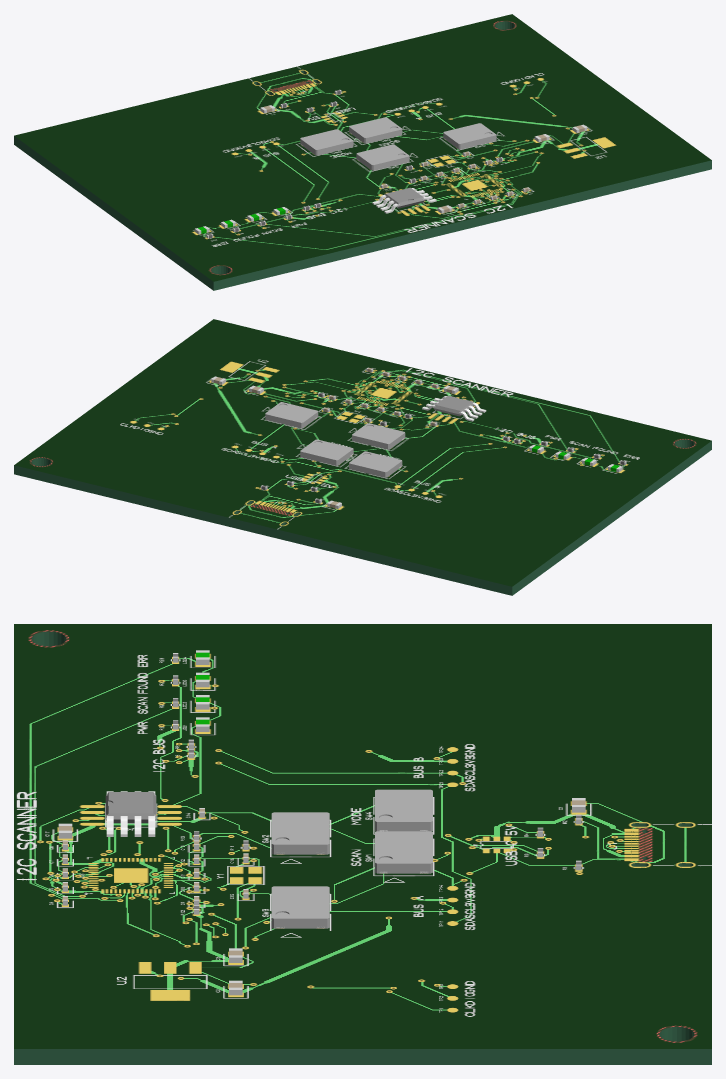
The picture shows the model from 3 angles, top to bottom: view 1: azimuth 30°, elevation 25°; view 2: azimuth 150°, elevation 25°; view 3: azimuth 270°, elevation 25°; orthographic projection. The views are drawn at different scales.
Parts seen in each view (by area): view 1: Box0, SW2, SW3, SW4, SW1, U4; view 2: Box0, SW3, SW2, SW1, SW4, U4; view 3: Box0, SW2, SW3, SW1, SW4, U4.
Part boxes in pixels (x1,y1,x2,y2): Box0: (14,14,711,290); SW2: (356,144,409,170); SW3: (443,123,496,149); SW4: (300,129,353,155); SW1: (349,117,402,143); U4: (372,187,436,213); Box0: (14,319,711,595); SW3: (265,402,318,428); SW2: (352,423,405,449); SW1: (300,439,353,465); SW4: (349,451,402,477); U4: (422,395,486,421); Box0: (14,624,711,1064); SW2: (271,812,329,854); SW3: (271,886,329,928); SW1: (375,831,432,873); SW4: (375,789,432,831); U4: (105,791,156,836).
Bounding box in the file's own units: 91.9 × 2.88 × 63.8.
Materials: 10 (2 with a texture image).
